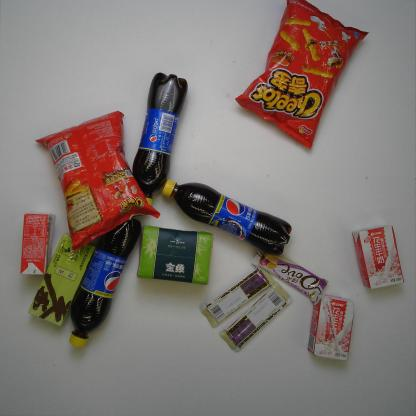Chocolate: (217, 278, 294, 354), (198, 263, 276, 329), (247, 248, 330, 304)
Drink: (160, 176, 293, 258), (66, 217, 144, 350), (126, 69, 190, 209)
Instant Drink: (28, 233, 96, 328)
Milk: (349, 222, 405, 290), (306, 292, 355, 361), (19, 212, 57, 276)
Puffed Food: (232, 1, 372, 152), (33, 108, 163, 252)
Tissue: (135, 222, 216, 286)
